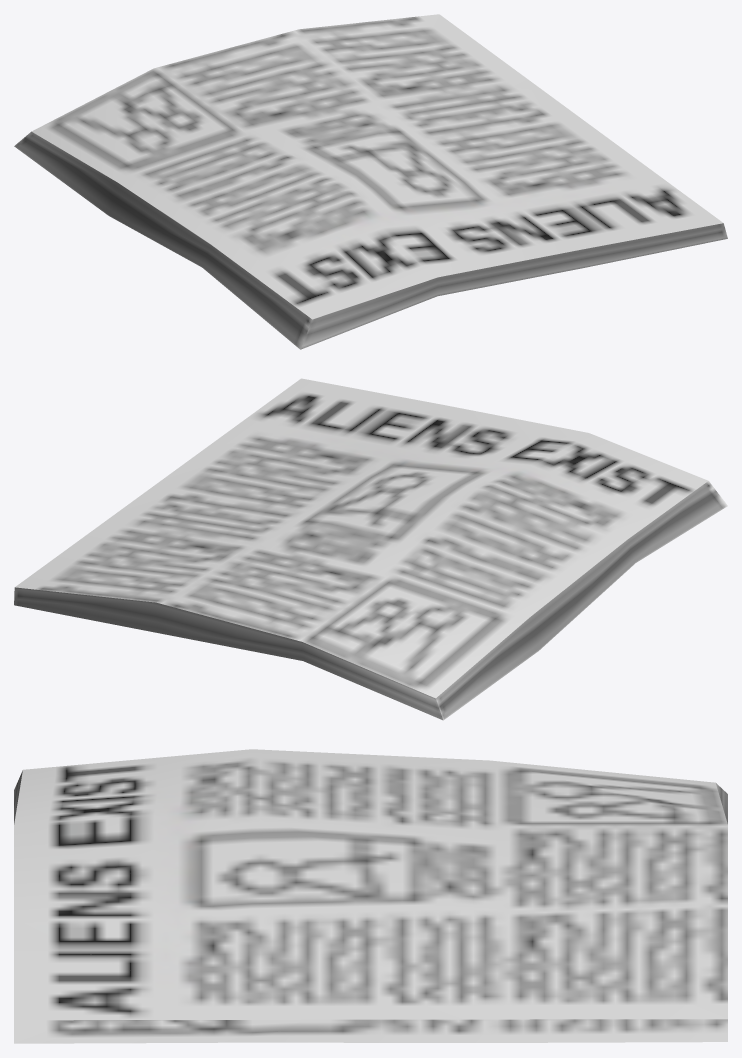
Rendered from WorldItem_AuthenticNewspaper.fbx.
3 views of the same model, one above another, from view 1: azimuth 30°, elevation 25°; view 2: azimuth 150°, elevation 25°; view 3: azimuth 270°, elevation 25° (orthographic). The views are drawn at different scales.
Visible parts, largest first — view 1: AuthenticPaper.001; view 2: AuthenticPaper.001; view 3: AuthenticPaper.001.
Boxes of the visible parts, x1,y1,x2,y2 form: AuthenticPaper.001: [14, 14, 727, 349]; AuthenticPaper.001: [14, 378, 727, 720]; AuthenticPaper.001: [14, 749, 727, 1043].
Bounding box in the file's own units: 0.2174 × 0.0277 × 0.2484.
